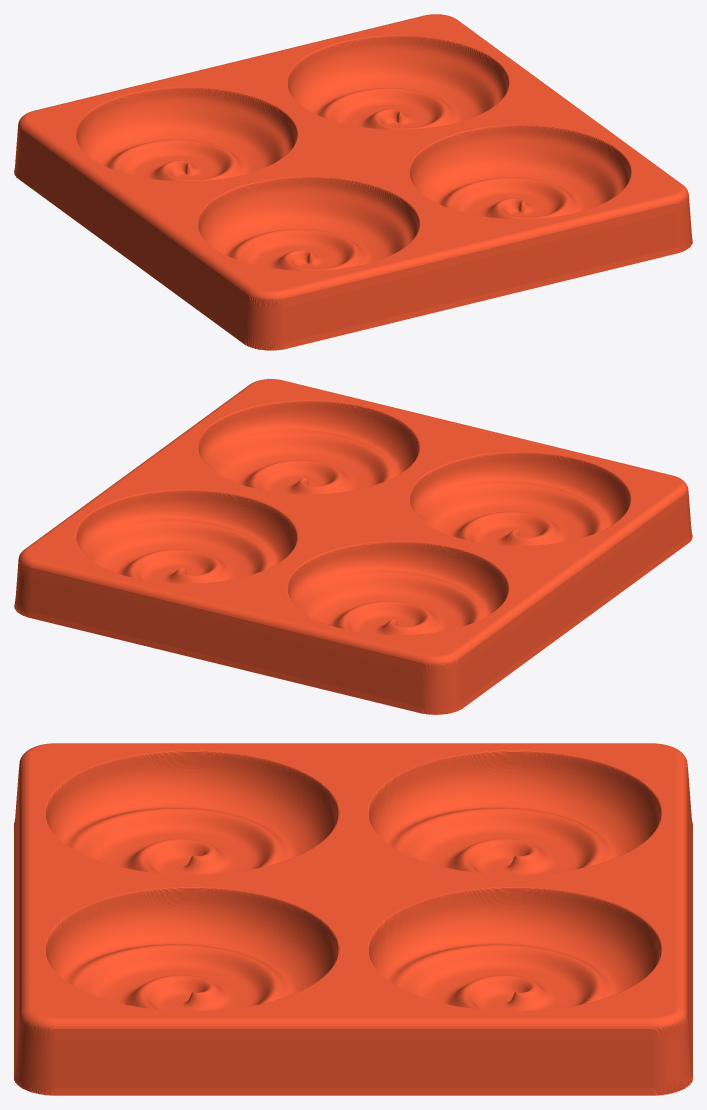
Rendered from mold.glb.
The picture shows the model from 3 angles, top to bottom: view 1: azimuth 30°, elevation 25°; view 2: azimuth 150°, elevation 25°; view 3: azimuth 270°, elevation 25°; orthographic projection. The views are drawn at different scales.
Parts seen in each view (by area): view 1: geometry_0; view 2: geometry_0; view 3: geometry_0.
Part boxes in pixels (x1,y1,x2,y2): geometry_0: (14,14,692,350); geometry_0: (14,379,692,714); geometry_0: (14,743,692,1095).
Bounding box in the file's own units: 0.1482 × 0.0172 × 0.1482.
